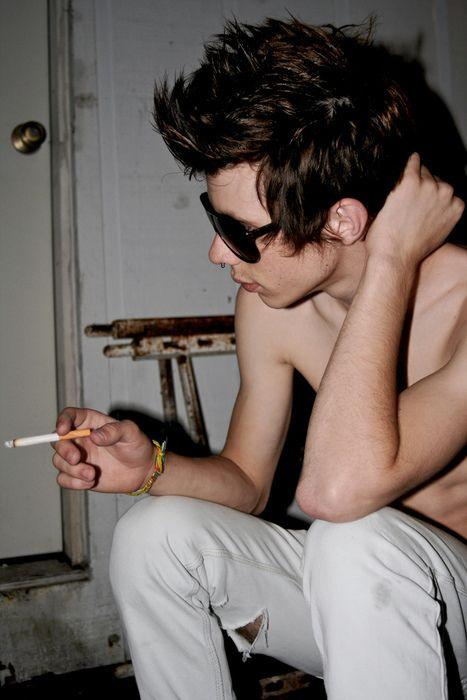cigarette: (1, 429, 90, 448)
